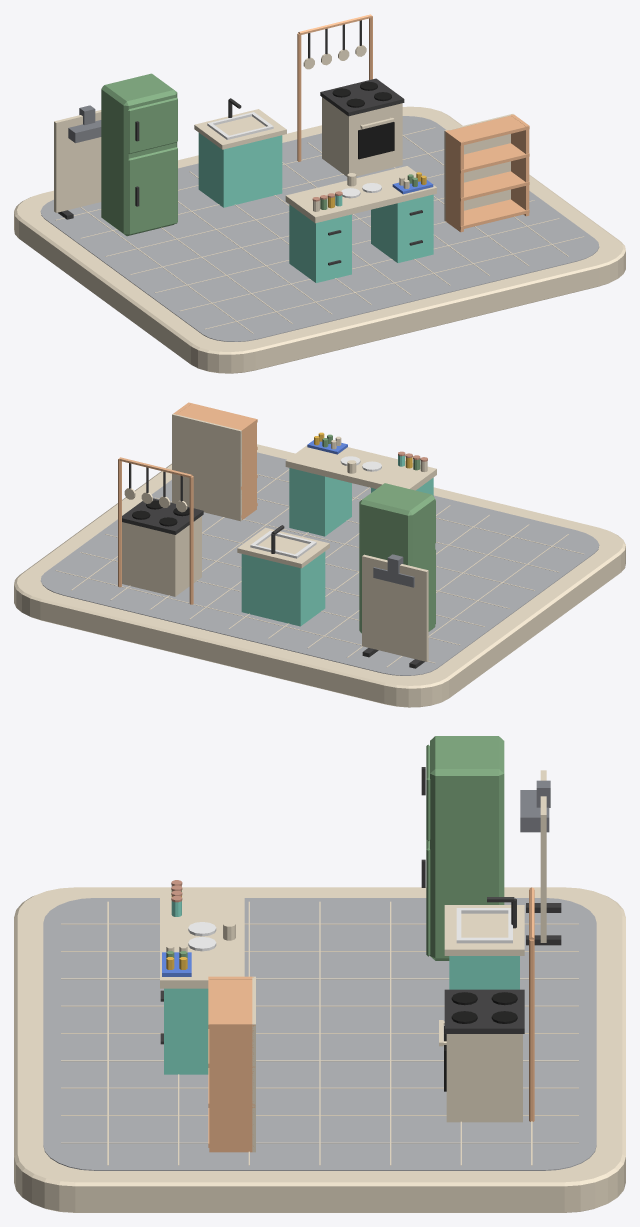
Rendered from room.fbx.
3 views of the same model, one above another, from view 1: azimuth 30°, elevation 25°; view 2: azimuth 150°, elevation 25°; view 3: azimuth 270°, elevation 25° (orthographic). The views are drawn at different scales.
Visible parts, largest first — view 1: COM-02 Floor Surface, COM-01 Rounded Base Direct, Cabinet, Cabinet.001, Stove, Door, Panel, Storage module, Storage module.001, Worktop, Door.001, Counter (+12 smaller); view 2: COM-02 Floor Surface, COM-01 Rounded Base Direct, Cabinet, Back, Panel, Cabinet.001, Stove, Worktop, Storage module.001, Counter, Side, Hob (+4 smaller); view 3: COM-02 Floor Surface, COM-01 Rounded Base Direct, Cabinet, Stove, Worktop, Side.001, Storage module.001, Counter, Hob, Cabinet.001, Shelf.003, Panel (+9 smaller).
Boxes of the visible parts, <box> form: COM-02 Floor Surface: <box>40,116,599,341</box>; COM-01 Rounded Base Direct: <box>14,106,625,373</box>; Cabinet: <box>101,73,177,236</box>; Cabinet.001: <box>198,133,282,207</box>; Stove: <box>322,97,402,176</box>; Door: <box>128,147,177,234</box>; Panel: <box>54,110,101,212</box>; Storage module: <box>289,204,351,282</box>; Storage module.001: <box>371,194,433,262</box>; Worktop: <box>285,166,436,223</box>; Door.001: <box>128,97,177,153</box>; Counter: <box>194,109,286,149</box>; COM-02 Floor Surface: <box>40,452,599,675</box>; COM-01 Rounded Base Direct: <box>14,444,625,707</box>; Cabinet: <box>359,483,435,633</box>; Back: <box>172,413,241,521</box>; Panel: <box>362,554,428,661</box>; Cabinet.001: <box>241,551,325,626</box>; Stove: <box>122,516,201,596</box>; Worktop: <box>285,445,436,490</box>; Storage module.001: <box>289,468,351,536</box>; Counter: <box>237,527,329,568</box>; Side: <box>238,418,256,519</box>; Hob: <box>122,498,203,534</box>; COM-02 Floor Surface: <box>43,898,596,1170</box>; COM-01 Rounded Base Direct: <box>14,887,625,1212</box>; Cabinet: <box>430,736,504,960</box>; Stove: <box>446,1034,522,1122</box>; Worktop: <box>160,895,244,988</box>; Side.001: <box>209,1022,253,1152</box>; Storage module.001: <box>164,988,208,1074</box>; Counter: <box>444,905,524,955</box>; Hob: <box>444,989,524,1033</box>; Cabinet.001: <box>449,956,519,989</box>; Shelf.003: <box>208,976,255,1028</box>; Panel: <box>540,770,546,942</box>.
Size of the model in its own units: 600 by 210 by 520.
